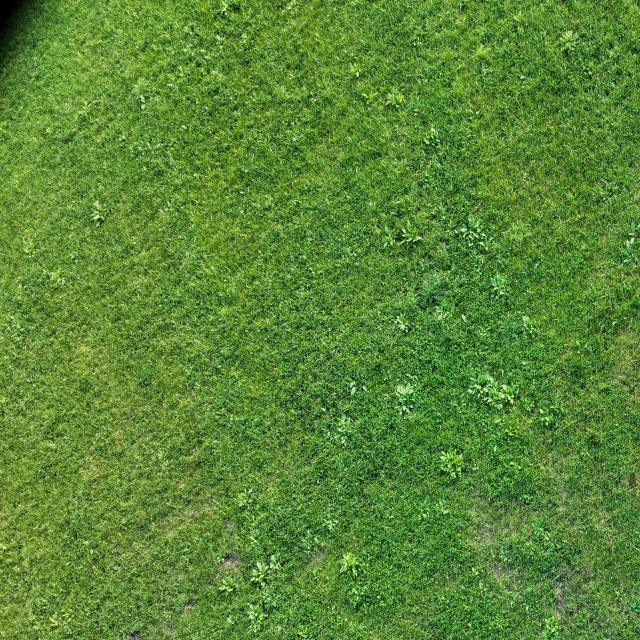rumex: (332, 368, 402, 465), (120, 86, 180, 168), (397, 1, 454, 66), (296, 503, 339, 563), (526, 374, 570, 431), (245, 555, 283, 614), (469, 374, 510, 408), (20, 233, 60, 266), (528, 514, 556, 554), (417, 270, 448, 306), (599, 182, 633, 210), (274, 84, 310, 110), (198, 69, 224, 104), (76, 97, 102, 129), (392, 382, 418, 413), (438, 450, 464, 480), (396, 221, 424, 248), (621, 226, 640, 265), (488, 270, 510, 300), (345, 371, 366, 401), (338, 551, 359, 581), (246, 602, 266, 632), (464, 214, 487, 240), (472, 43, 494, 67), (558, 28, 580, 52), (212, 1, 238, 21), (249, 564, 271, 587), (452, 2, 470, 30), (421, 125, 441, 149), (218, 573, 239, 595), (333, 418, 353, 440), (235, 488, 255, 510), (434, 305, 454, 326), (542, 615, 562, 636), (520, 314, 537, 338), (182, 22, 202, 42), (20, 238, 38, 260), (381, 225, 398, 248), (392, 314, 410, 335), (310, 203, 328, 224), (323, 515, 341, 533), (61, 127, 79, 145), (583, 58, 599, 78), (498, 544, 512, 564), (134, 77, 148, 96), (599, 184, 615, 200), (348, 61, 362, 79), (417, 508, 432, 524), (48, 612, 62, 628), (240, 32, 252, 50), (482, 374, 497, 388), (401, 220, 413, 236), (332, 431, 348, 442), (134, 92, 146, 106), (0, 119, 9, 137), (347, 592, 358, 606), (618, 303, 628, 318), (530, 259, 540, 274), (480, 66, 492, 78), (219, 1, 229, 15), (490, 275, 501, 287), (269, 553, 279, 566), (92, 211, 103, 222), (471, 566, 481, 578), (256, 560, 266, 572), (84, 100, 97, 109), (226, 188, 234, 202), (311, 568, 320, 580), (336, 458, 345, 470), (25, 556, 33, 569), (49, 272, 59, 282), (361, 92, 371, 102), (393, 93, 403, 103), (395, 385, 405, 395), (367, 200, 376, 211), (420, 148, 428, 160), (163, 202, 172, 212), (459, 228, 469, 237), (286, 2, 295, 12), (217, 556, 226, 566), (94, 217, 103, 227), (522, 314, 530, 325), (480, 241, 488, 251), (349, 382, 357, 392), (93, 200, 101, 210), (225, 615, 233, 625), (430, 125, 437, 136), (23, 244, 31, 253), (393, 198, 402, 206), (177, 65, 184, 75), (461, 313, 468, 323), (167, 82, 175, 90), (268, 562, 276, 570), (467, 386, 475, 394), (291, 134, 298, 143), (440, 452, 447, 461), (215, 34, 222, 42), (182, 47, 189, 55), (456, 448, 463, 456), (478, 581, 484, 590), (493, 444, 498, 454), (635, 236, 640, 246), (45, 127, 52, 134), (218, 291, 225, 298), (183, 26, 190, 33), (120, 134, 126, 142), (140, 104, 146, 112), (59, 278, 65, 286), (539, 407, 545, 415), (88, 548, 94, 556), (522, 172, 528, 180), (635, 222, 640, 231), (459, 3, 465, 10), (309, 90, 314, 98), (519, 74, 525, 80), (413, 109, 418, 116), (629, 542, 633, 550)
